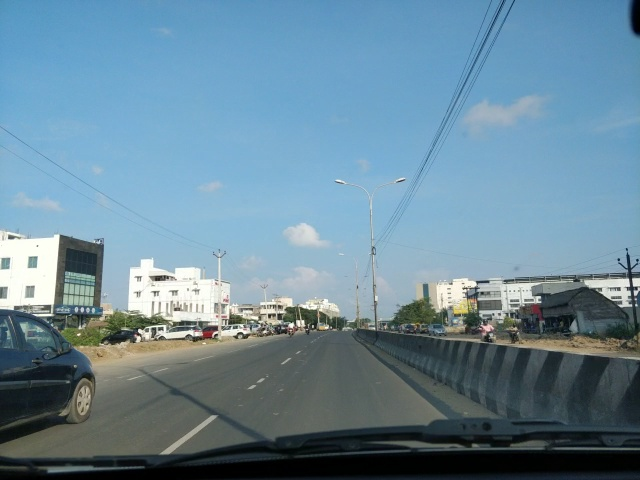auto: (317, 322, 326, 330)
car: (0, 307, 99, 440), (211, 322, 252, 340), (154, 328, 203, 341), (103, 331, 143, 345), (143, 324, 171, 343), (401, 313, 416, 348), (427, 323, 446, 346), (427, 324, 447, 336), (274, 322, 287, 333), (205, 325, 215, 336), (405, 325, 417, 333)
motorbike: (478, 317, 500, 341), (290, 319, 298, 337), (484, 331, 497, 342), (304, 320, 311, 336), (289, 328, 296, 336)
person: (481, 316, 493, 334), (508, 326, 521, 337), (287, 319, 294, 329)
